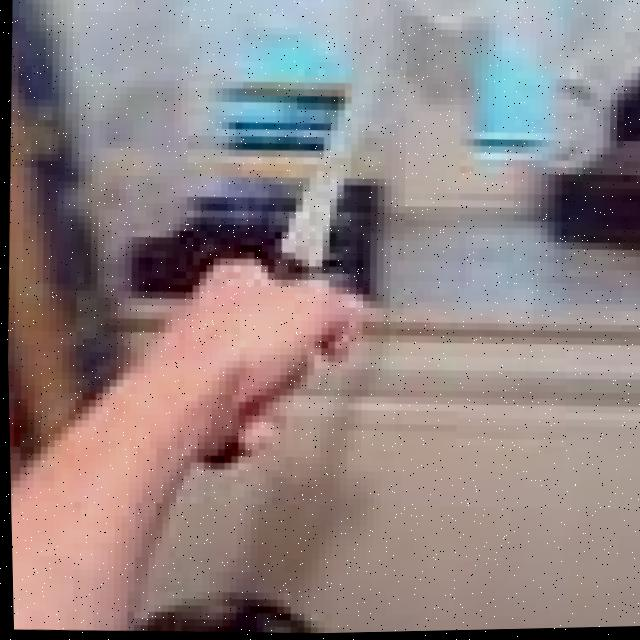knife: (261, 52, 385, 284)
